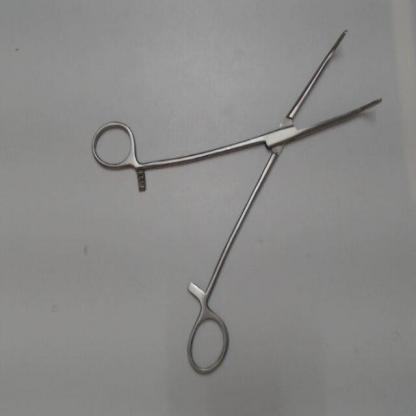Lahey Forceps: (84, 20, 386, 380)
